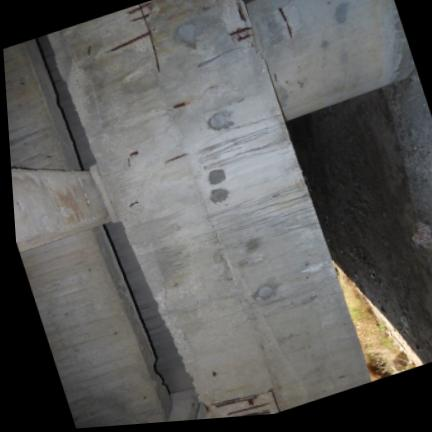Exposed Rebar: (113, 0, 178, 73), (209, 379, 283, 418)
beam: (11, 166, 110, 251)
pier bridge: (246, 0, 413, 121)
pier cap: (47, 0, 370, 419)
